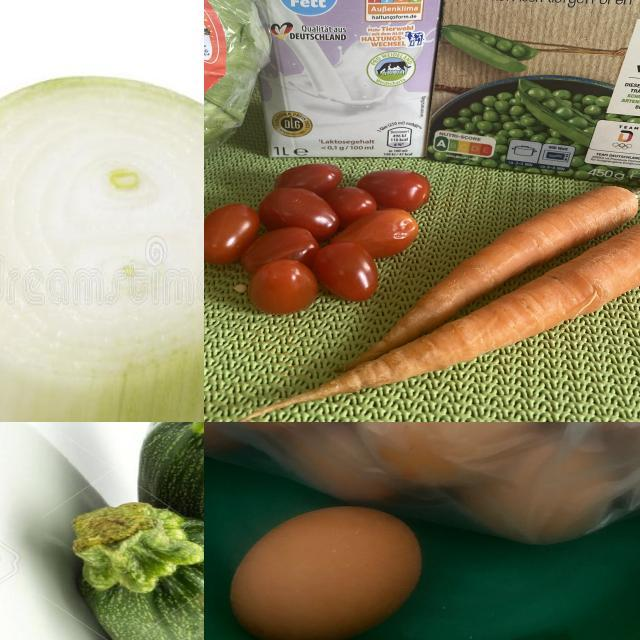carrot: (248, 216, 640, 423), (324, 163, 640, 383)
egg: (227, 502, 423, 640), (477, 441, 615, 551), (283, 423, 415, 501), (366, 423, 532, 480)
onion: (1, 66, 205, 423)
tomato: (205, 156, 445, 319)
zucchini: (27, 508, 205, 640)
